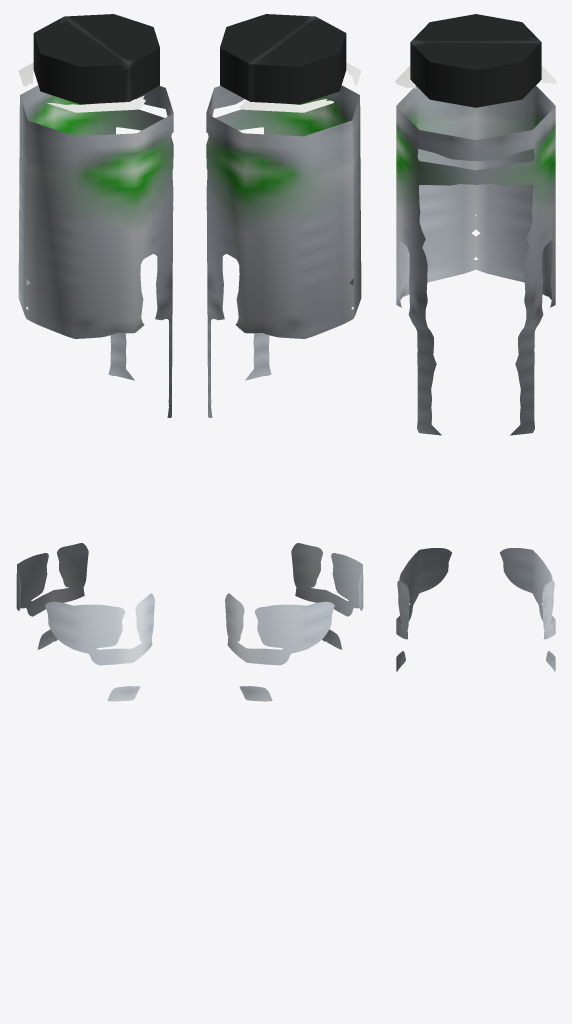
File: MORIHealWhite.fbx
3 renders of one model, left to right at view 1: azimuth 30°, elevation 25°; view 2: azimuth 150°, elevation 25°; view 3: azimuth 270°, elevation 25°, orthographic.
Parts seen in each view (by area): view 1: M.O.R.I.; view 2: M.O.R.I.; view 3: M.O.R.I..
Boxes of the visible parts, box(x1,y1,x2,y2) form: M.O.R.I.: box(16, 14, 173, 701); M.O.R.I.: box(206, 14, 363, 701); M.O.R.I.: box(394, 14, 557, 671).
Bounding box in the file's own units: 0.2643 × 1.67 × 0.2568.
